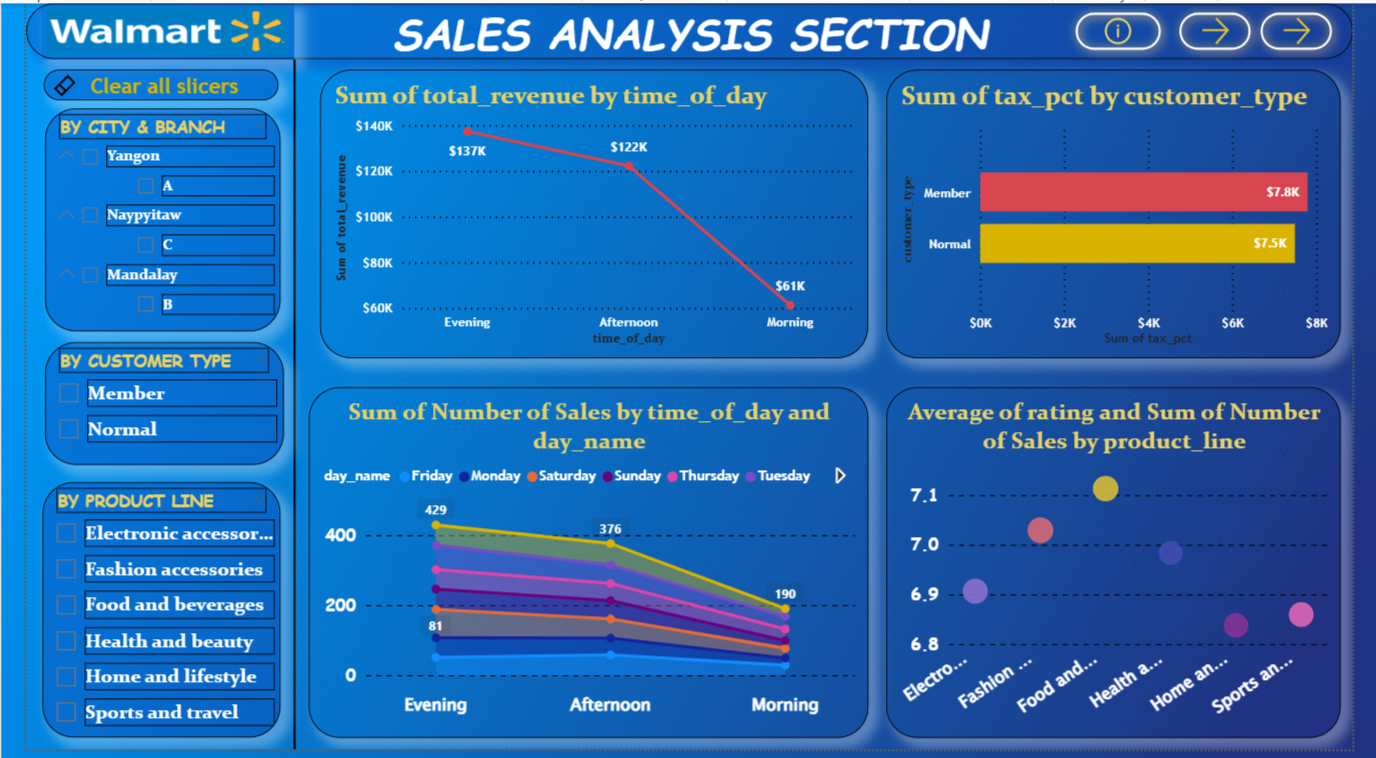

What the dashboard file says about the page in this screenshot:
{"tool":"powerbi","page":{"name":"Sales Section","canvas":[1280,720],"ordinal":1},"visuals":[{"type":"textbox","title":" SALES ANALYSIS SECTION ","box":[0,0,1280,53.8],"z":0},{"type":"image","box":[15,0,243.8,53.8],"z":1000},{"type":"shape","box":[245.7,54.3,25.7,665.7],"z":2000},{"type":"lineChart","fields":{"Category":["salesdatawalmart sales.time_of_day"],"Y":["Sum(salesdatawalmart sales.total)"]},"box":[283.8,63.8,528.8,278.8],"z":3000},{"type":"stackedAreaChart","fields":{"Category":["salesdatawalmart sales.time_of_day"],"Y":["Sum(salesdatawalmart sales.Number of Sales)"],"Series":["salesdatawalmart sales.day_name"]},"box":[272.5,370,540,338.8],"z":4000},{"type":"scatterChart","fields":{"X":["salesdatawalmart sales.product_line"],"Y":["Avg(salesdatawalmart sales.rating)"],"Size":["Sum(salesdatawalmart sales.Number of Sales)"]},"box":[830,370,438.8,338.8],"z":5000},{"type":"barChart","fields":{"Category":["salesdatawalmart sales.customer_type"],"Y":["Sum(salesdatawalmart sales.tax_pct)"]},"box":[830,63.8,438.8,278.8],"z":6000},{"type":"actionButton","box":[17.1,63.6,226.1,29.3],"z":7000},{"type":"slicer","fields":{"Values":["salesdatawalmart sales.city","salesdatawalmart sales.branch"]},"box":[18.3,101.5,227.4,215.1],"z":8000},{"type":"slicer","fields":{"Values":["salesdatawalmart sales.customer_type"]},"box":[18.6,327.1,230,118.6],"z":9000},{"type":"slicer","title":"By","fields":{"Values":["salesdatawalmart sales.product_line"]},"box":[15.2,462.4,229.9,246.4],"z":10000},{"type":"actionButton","box":[1103.8,0,86.8,53.8],"z":11000},{"type":"actionButton","box":[1182.1,0,86.8,53.8],"z":12000},{"type":"actionButton","box":[1003.6,0,100.2,53.8],"z":13000}]}

Visuals, with their boxes in screenshot pixels (x1, y1, x2, y2), scaled from the page's 1280x720 canvas onto the 1376x758 screenshot:
" SALES ANALYSIS SECTION " textbox: <bbox>0, 0, 1375, 57</bbox>
image: <bbox>16, 0, 278, 57</bbox>
shape: <bbox>264, 57, 292, 757</bbox>
lineChart - salesdatawalmart sales.time_of_day x Sum(salesdatawalmart sales.total): <bbox>305, 67, 874, 361</bbox>
stackedAreaChart - salesdatawalmart sales.time_of_day x Sum(salesdatawalmart sales.Number of Sales): <bbox>293, 390, 873, 746</bbox>
scatterChart - salesdatawalmart sales.product_line x Avg(salesdatawalmart sales.rating): <bbox>892, 390, 1364, 746</bbox>
barChart - salesdatawalmart sales.customer_type x Sum(salesdatawalmart sales.tax_pct): <bbox>892, 67, 1364, 361</bbox>
actionButton: <bbox>18, 67, 261, 98</bbox>
slicer - salesdatawalmart sales.city x salesdatawalmart sales.branch: <bbox>20, 107, 264, 333</bbox>
slicer - salesdatawalmart sales.customer_type: <bbox>20, 344, 267, 469</bbox>
"By" slicer: <bbox>16, 487, 263, 746</bbox>
actionButton: <bbox>1187, 0, 1280, 57</bbox>
actionButton: <bbox>1271, 0, 1364, 57</bbox>
actionButton: <bbox>1079, 0, 1187, 57</bbox>
